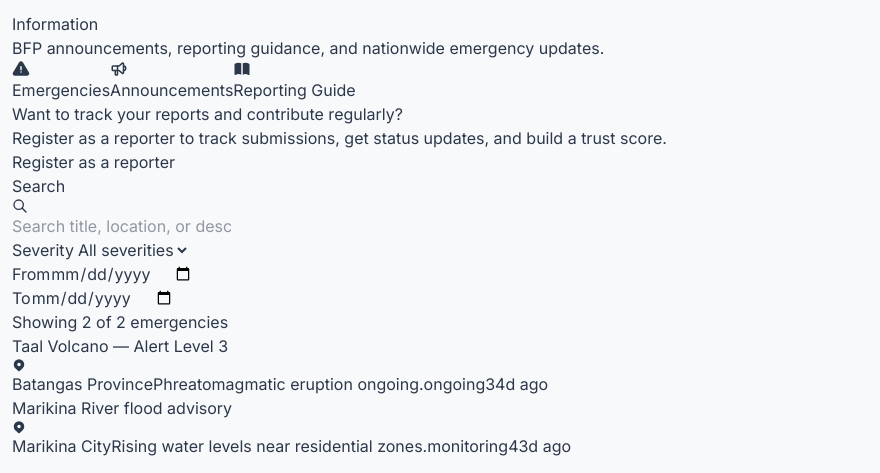
Test case: Information page — emergencies filters (#614) › shows a "no matching emergencies" state and a clear-filters control when filters exclude everything
The image size is (880, 473).
Expected: the text "Taal Volcano — Alert Level 3" is shown, [12,336,228,356]
Type "nonexistent-xyz" into the search field labelled "Search" at {"x": 129, "y": 226}, box [12,214,246,238]
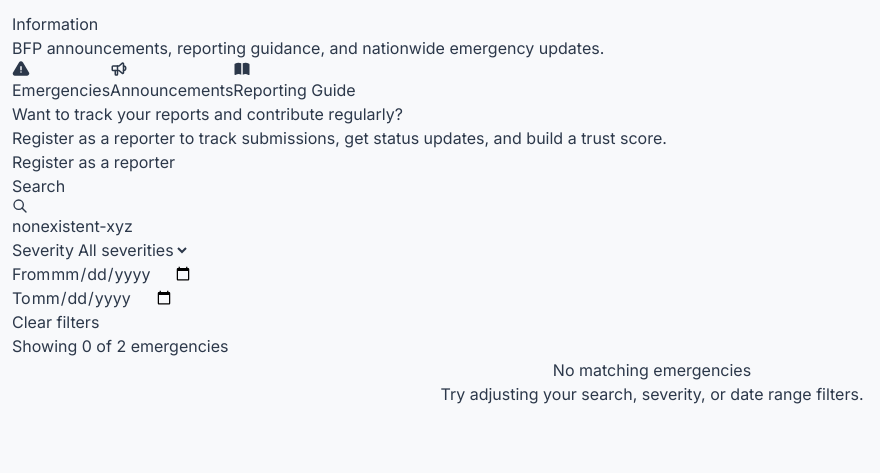
Result: the heading "No matching emergencies" is shown at [553,360,751,380]
Click the button "Clear filters" at {"x": 56, "y": 322}, box [12,310,99,334]
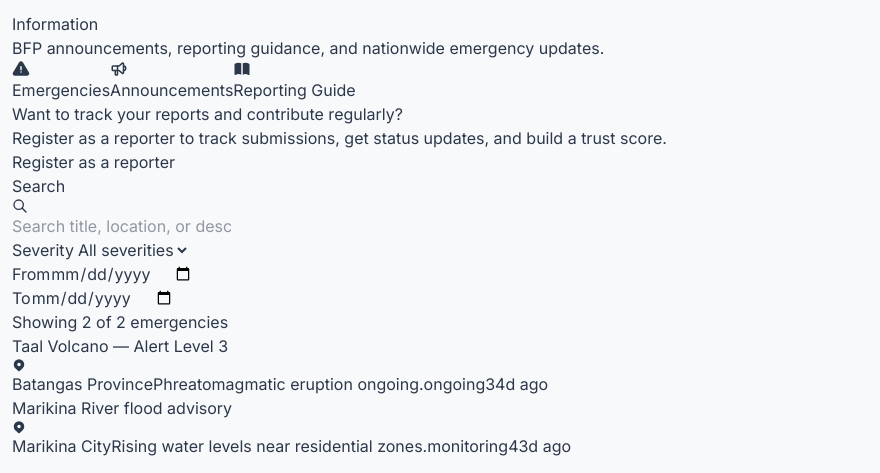
Result: the text "Taal Volcano — Alert Level 3" is shown at [12,336,228,356]
